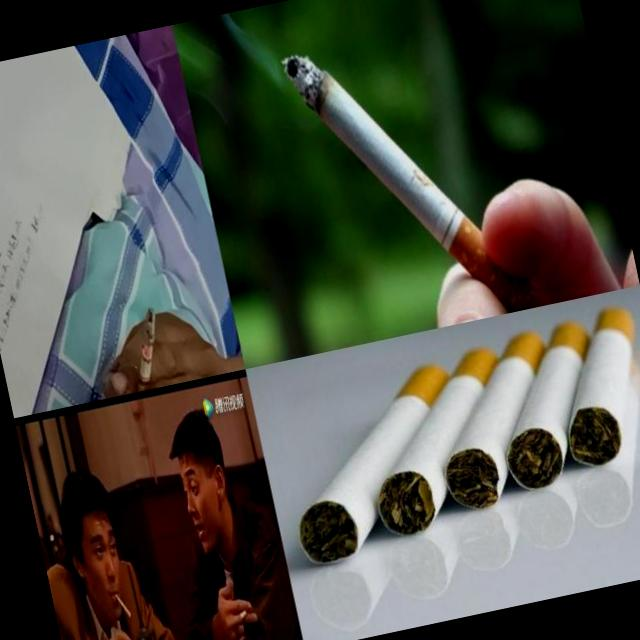smoke: (280, 11, 552, 347), (269, 361, 482, 568), (350, 342, 532, 540), (419, 328, 577, 516), (480, 316, 619, 494), (542, 301, 640, 471), (111, 306, 170, 392), (111, 586, 132, 620)
